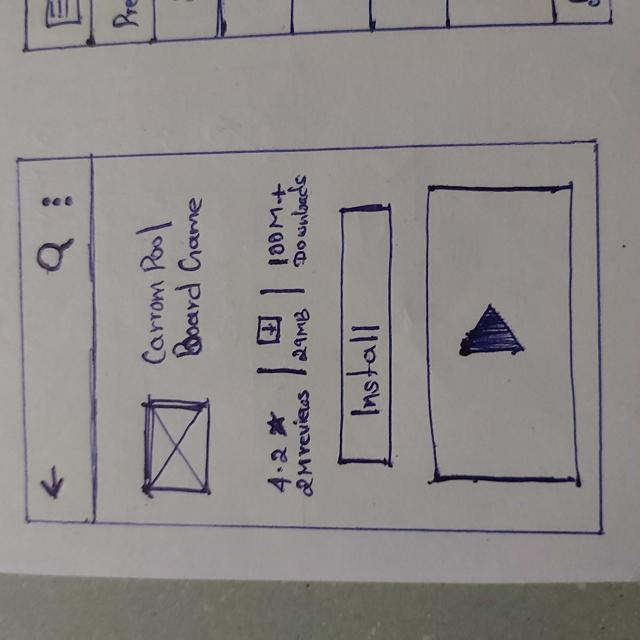ActionButton: (17, 230, 98, 286), (17, 183, 95, 222)
AppBar: (14, 154, 102, 524)
BackButton: (39, 467, 67, 500)
Button: (331, 200, 402, 469)
Icon: (455, 302, 537, 361), (34, 236, 81, 272), (257, 316, 285, 348), (42, 194, 80, 210)
Image: (140, 394, 212, 500)
TextView: (175, 195, 209, 366), (133, 222, 169, 371), (291, 171, 312, 272), (263, 411, 287, 497), (296, 391, 315, 497), (264, 184, 287, 270), (292, 311, 313, 365)
Video: (416, 178, 585, 495)
